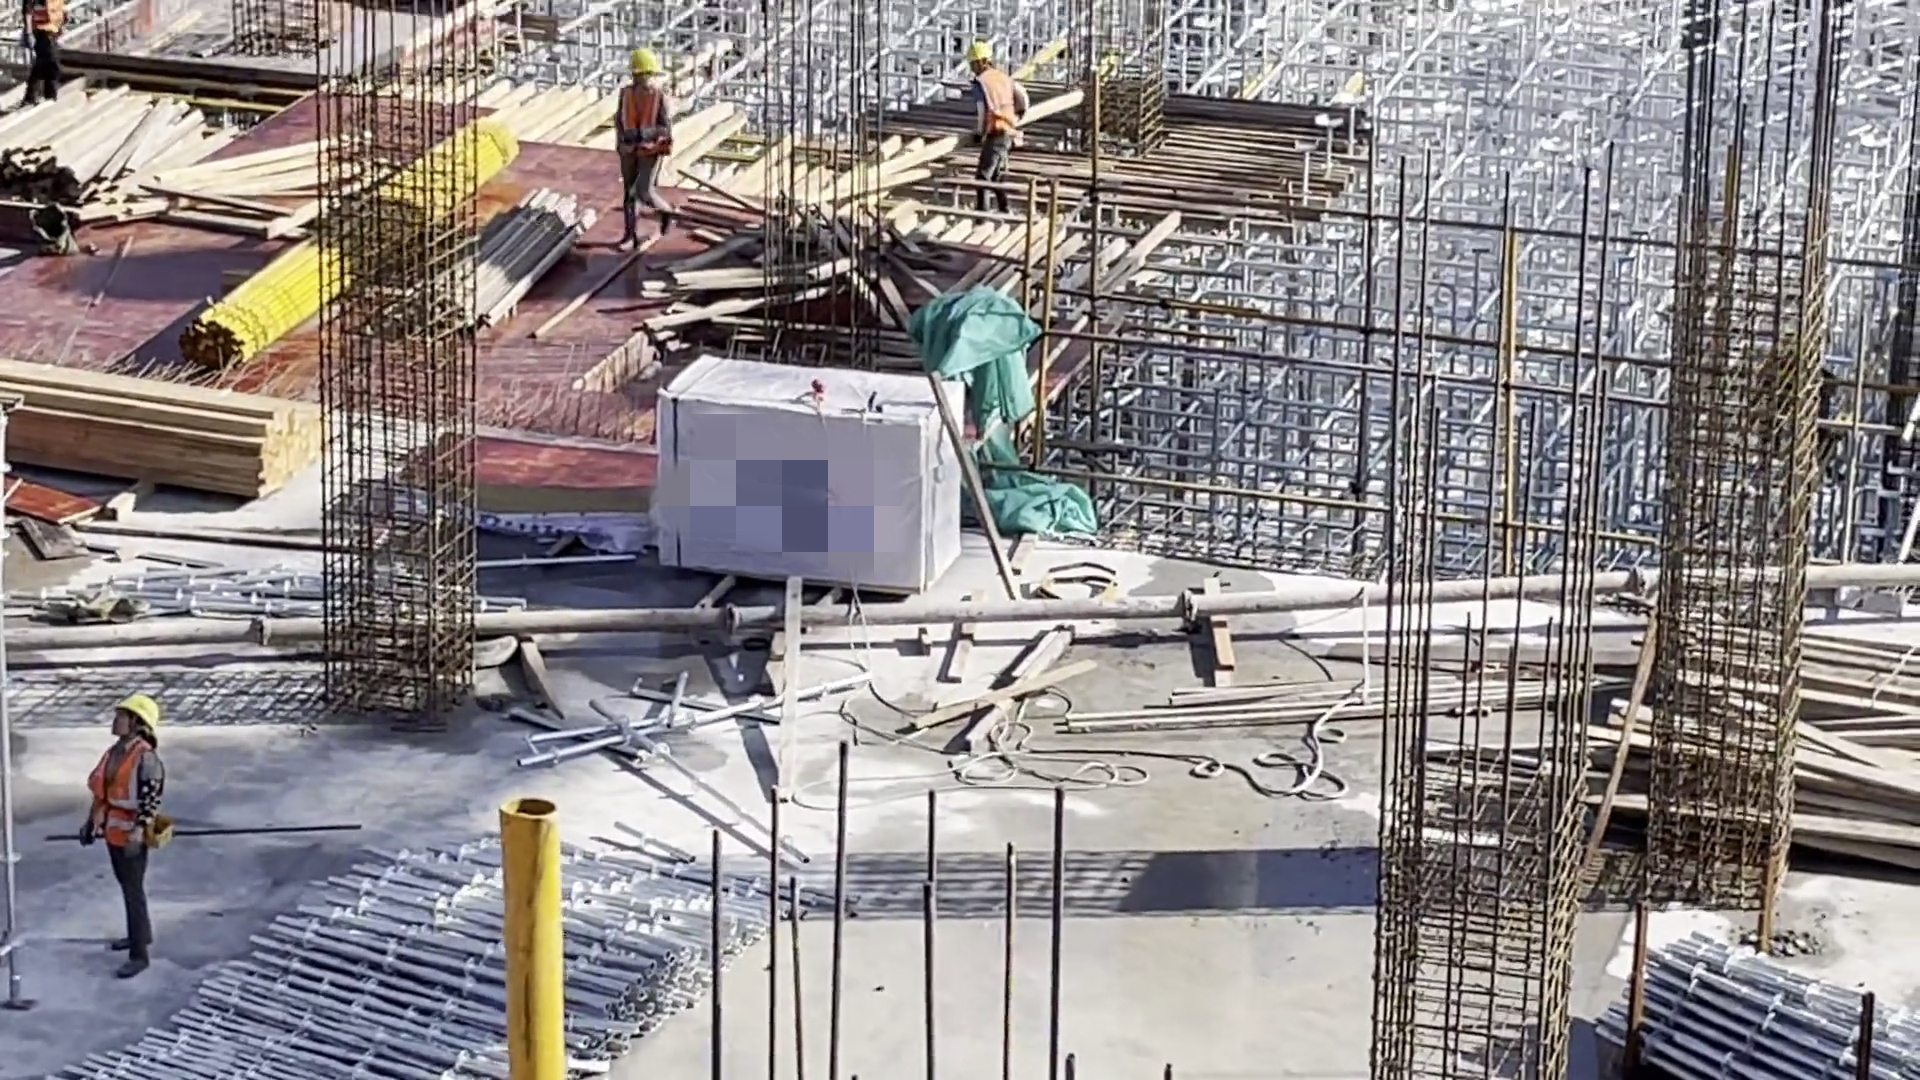helmet: (114, 695, 159, 733), (629, 49, 656, 73), (969, 41, 993, 63)
person: (83, 695, 166, 980), (612, 51, 677, 251), (969, 42, 1027, 212)
scaffold: (1620, 943, 1920, 1078)
vest: (89, 745, 140, 845), (973, 69, 1019, 138), (621, 85, 665, 153)
wood: (1, 374, 327, 507), (1, 96, 179, 214)
